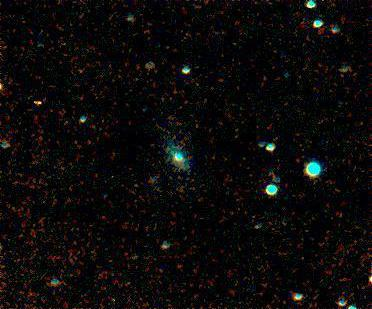star: (23, 87, 53, 117)
